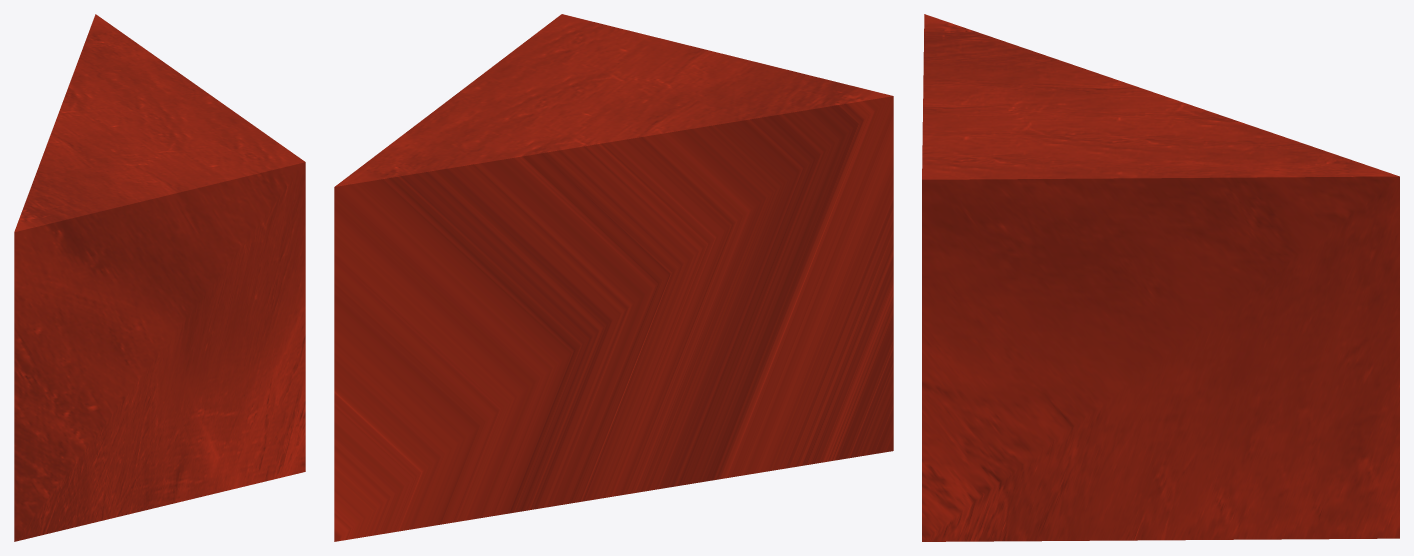
The model's file is orange3.FBX.
The picture shows the model from 3 angles, left to right: view 1: azimuth 30°, elevation 25°; view 2: azimuth 150°, elevation 25°; view 3: azimuth 270°, elevation 25°; orthographic projection. The views are drawn at different scales.
Parts seen in each view (by area): view 1: Ligne026; view 2: Ligne026; view 3: Ligne026.
Part boxes in pixels (<box>): Ligne026: <box>14,14,305,541</box>; Ligne026: <box>334,14,893,541</box>; Ligne026: <box>922,14,1399,541</box>.
Size of the model in its own units: 10.28 by 10.47 by 12.53.
Materials: 1 (1 with a texture image).
